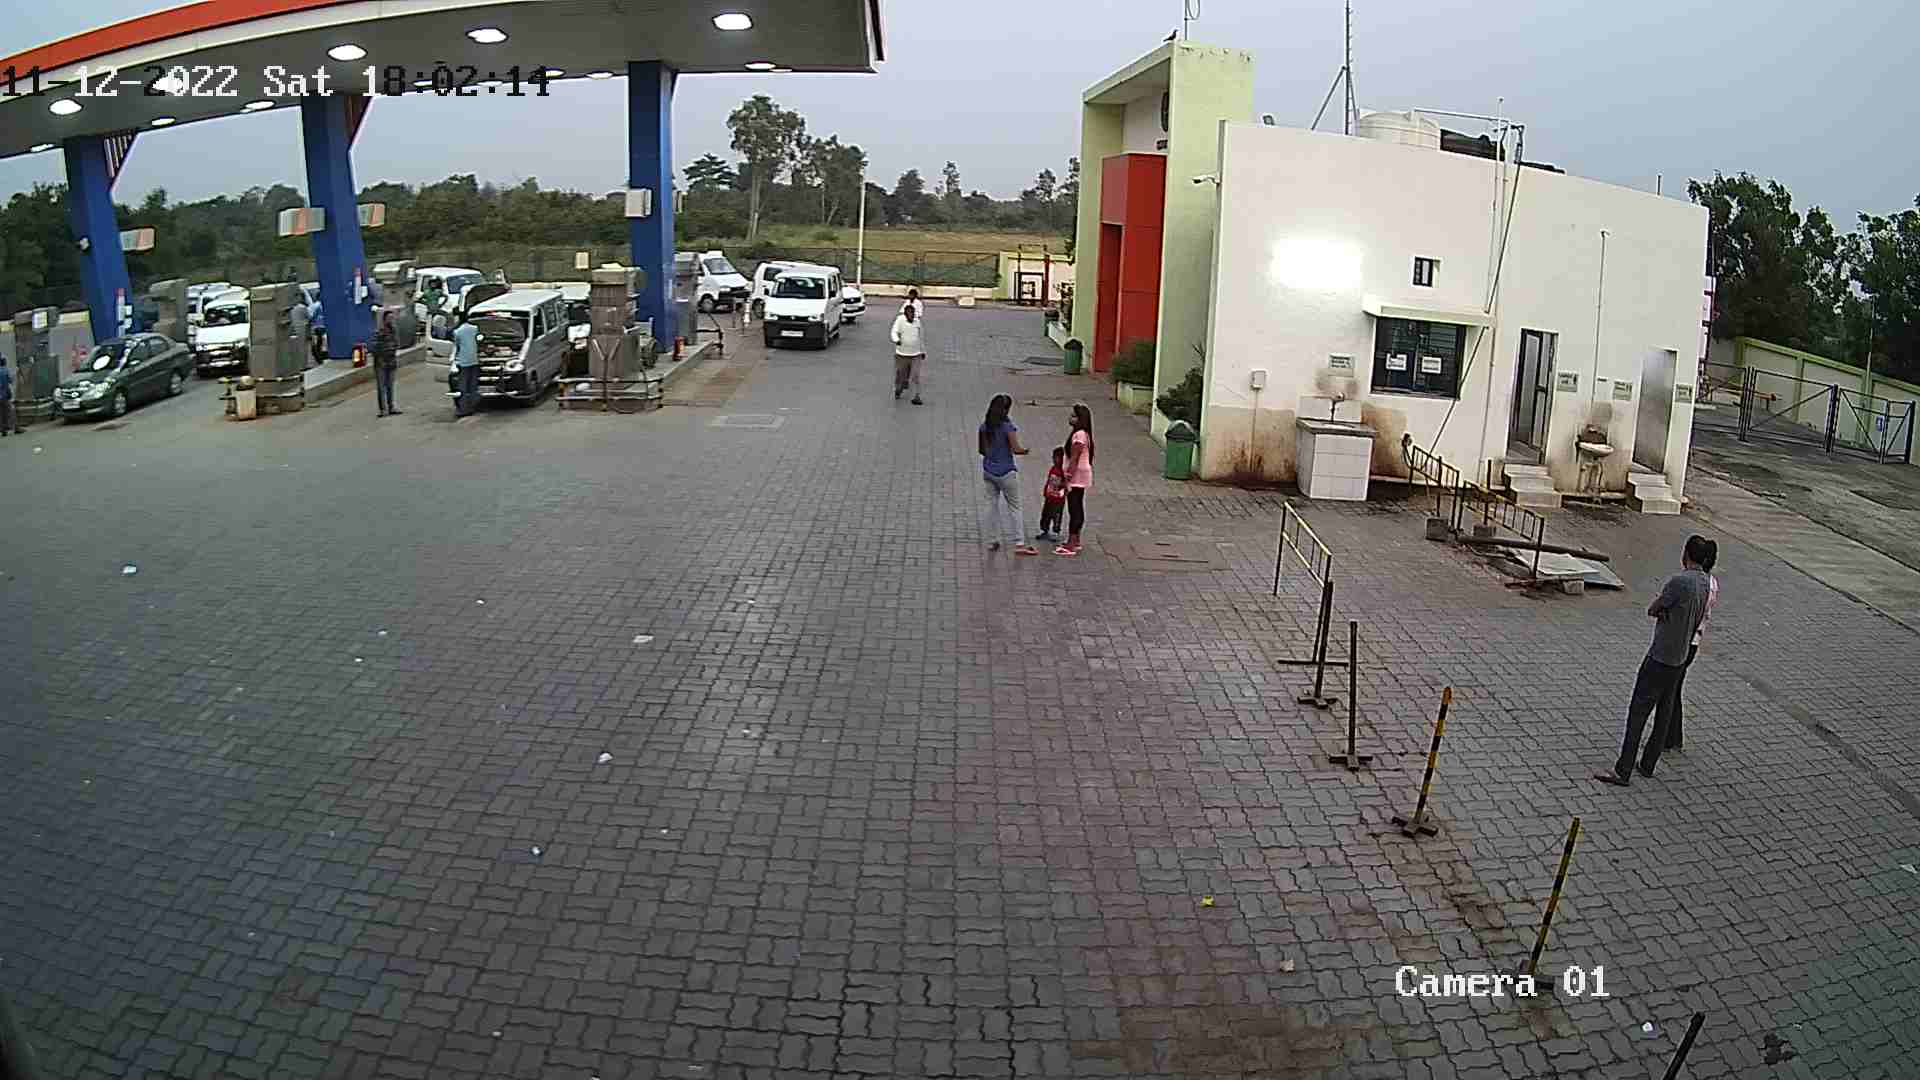Car: (419, 278, 572, 411), (44, 323, 200, 426), (742, 253, 872, 328), (752, 257, 847, 356), (185, 278, 261, 378), (405, 258, 495, 339), (676, 243, 750, 318), (549, 276, 595, 382)
